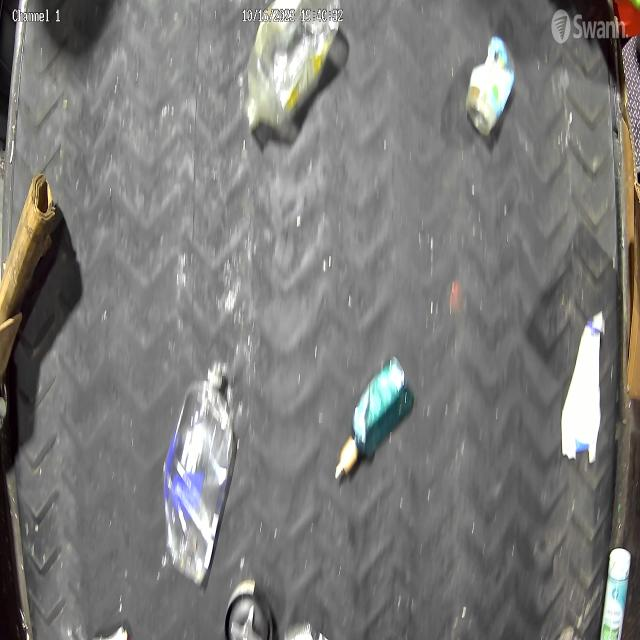can: (464, 31, 517, 140)
plastic_bottle: (162, 358, 235, 586), (245, 0, 343, 134)
